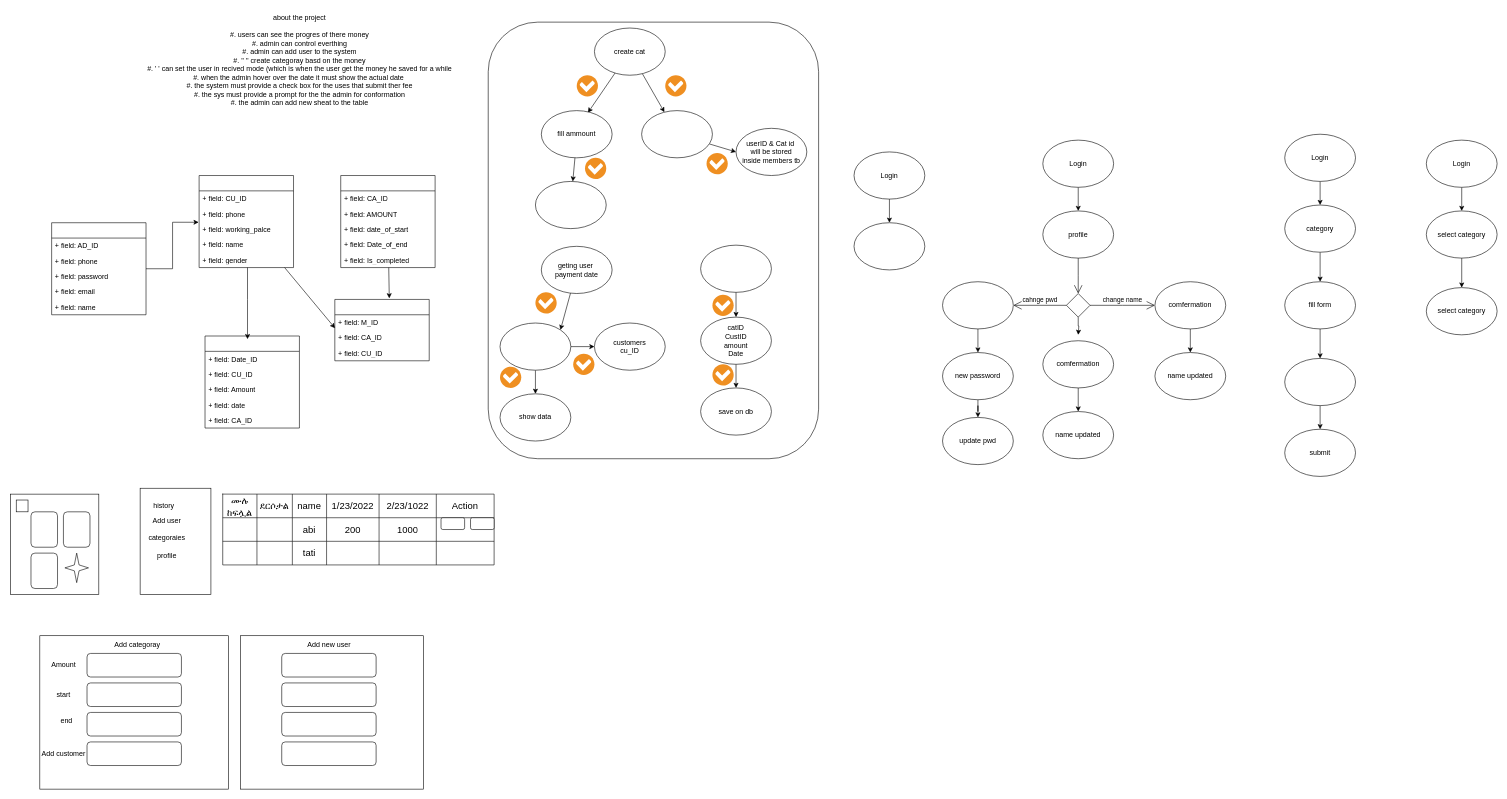
Some shapes in this 1507 by 799 pixel diagram are drawn without their labels. The shapes that lost their labels are listed below. From the top down, each one's box as (x1, y1, x2, y2) in pixels, then its label:
(641, 110, 712, 158): add users
(199, 175, 294, 268): customers
(340, 175, 435, 268): Categoray
(535, 181, 606, 229): data stored in cat table
(853, 222, 925, 270): see history
(51, 222, 146, 315): Admin
(700, 245, 771, 292): adding payment
(942, 281, 1013, 329): old password
(334, 299, 429, 361): Members
(499, 322, 571, 370): paymentdate using cat_ID
(204, 335, 299, 428): PaymentDate
(1284, 358, 1356, 406): Add use
